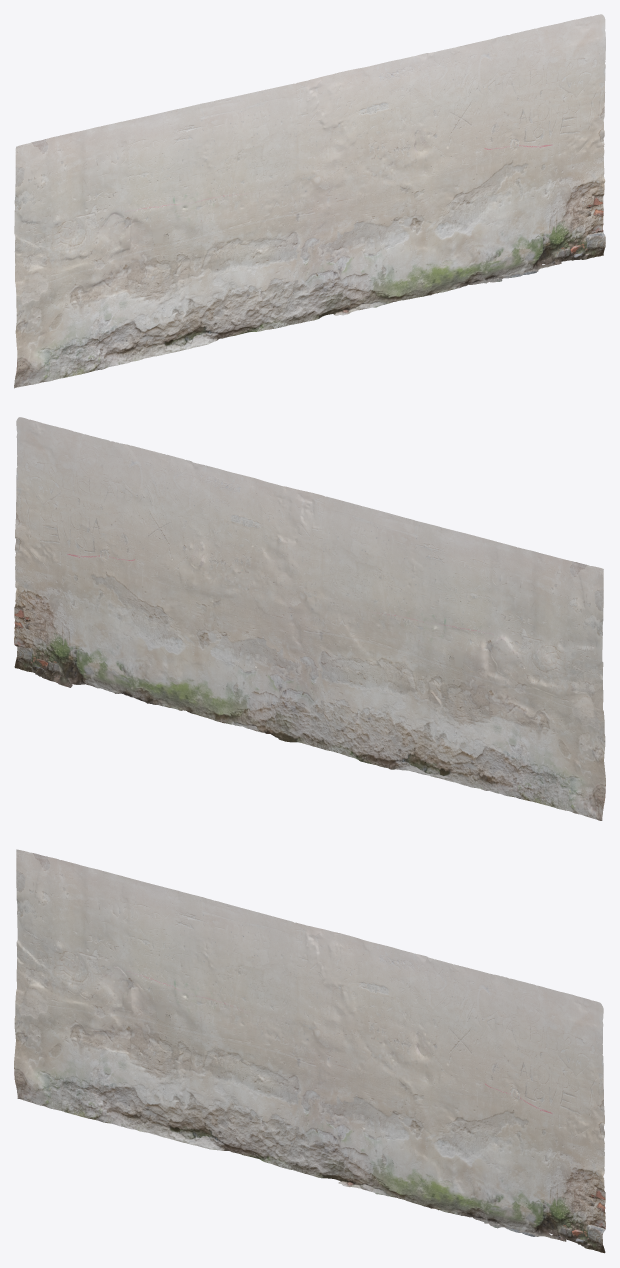
The model's file is wall.glb.
3 renders of one model, top to bottom at view 1: azimuth 30°, elevation 25°; view 2: azimuth 150°, elevation 25°; view 3: azimuth 330°, elevation 25°, orthographic. The views are drawn at different scales.
Parts seen in each view (by area): view 1: Model; view 2: Model; view 3: Model.
Part boxes in pixels (bbox=[...]): Model: bbox=[14, 14, 605, 388]; Model: bbox=[14, 417, 605, 820]; Model: bbox=[14, 849, 605, 1253].
Bounding box in the file's own units: 4.84 × 1.95 × 0.1867.
2 materials, 2 textured.
